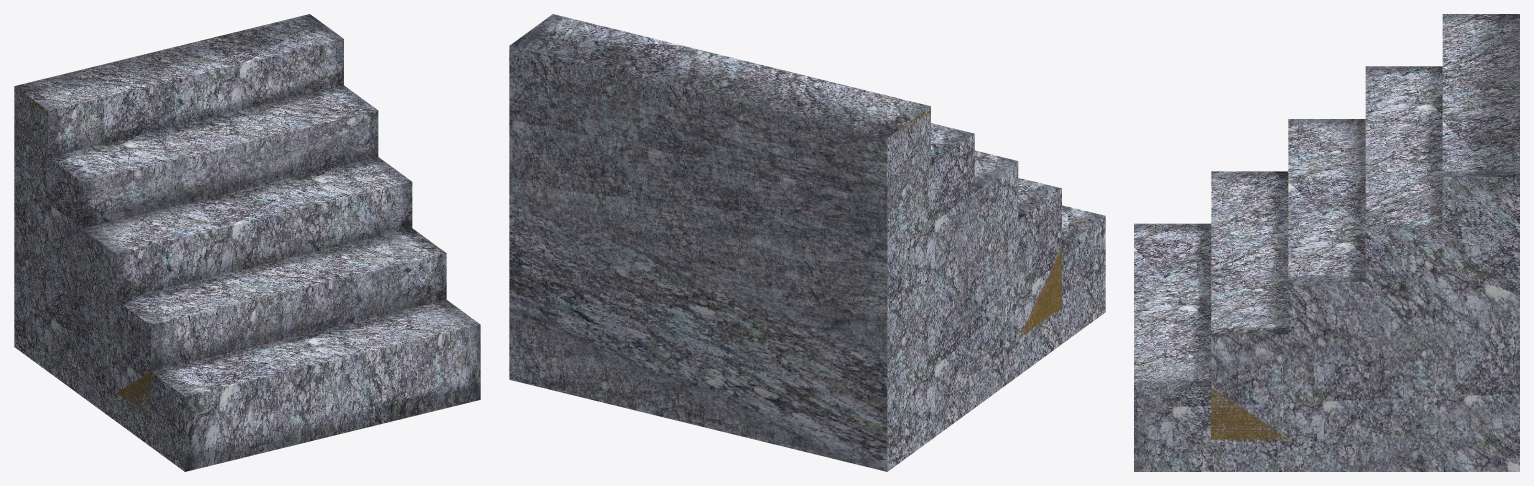
The model's file is stairs.glb.
The picture shows the model from 3 angles, left to right: view 1: azimuth 30°, elevation 25°; view 2: azimuth 150°, elevation 25°; view 3: azimuth 270°, elevation 25°; orthographic projection. The views are drawn at different scales.
Parts seen in each view (by area): view 1: Cube; view 2: Cube; view 3: Cube.
Boxes of the visible parts, x1,y1,x2,y2 form: Cube: (14,14,480,471); Cube: (509,14,1105,471); Cube: (1134,14,1519,471).
Bounding box in the file's own units: 2 × 1.69 × 2.
1 material, 1 textured.
